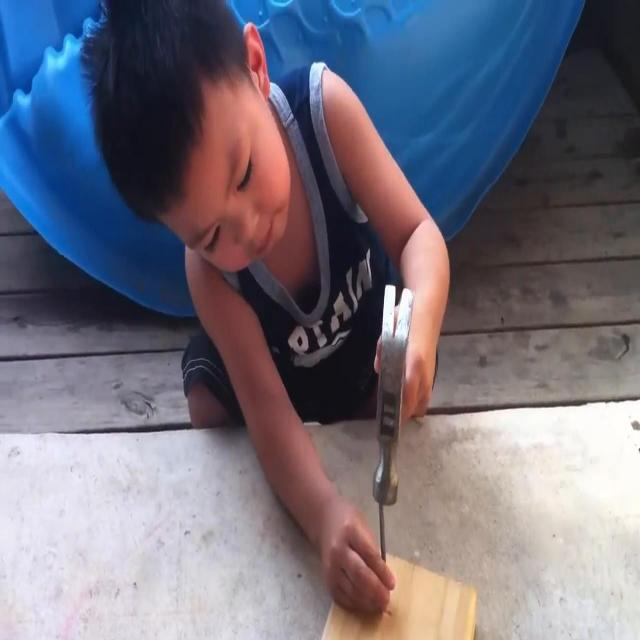hammer: (374, 284, 413, 502)
